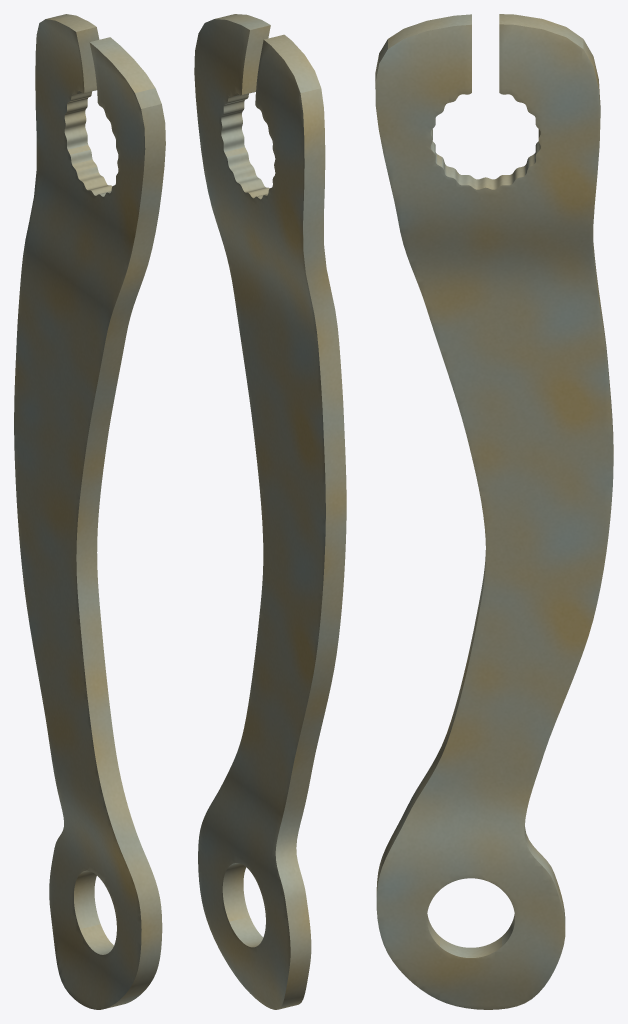
The model's file is front-cam-lever.glb.
3 views of the same model, side by side, from view 1: azimuth 30°, elevation 25°; view 2: azimuth 210°, elevation 25°; view 3: azimuth 270°, elevation 25° (orthographic). The views are drawn at different scales.
Visible parts, largest first — view 1: Front brake lever - editable candidate; view 2: Front brake lever - editable candidate; view 3: Front brake lever - editable candidate.
Boxes of the visible parts, x1,y1,x2,y2 form: Front brake lever - editable candidate: (14,14,165,1009); Front brake lever - editable candidate: (194,14,346,1009); Front brake lever - editable candidate: (375,14,613,1009).
Size of the model in its own units: 0.0043 by 0.1114 by 0.0243.
Materials: 1 (1 with a texture image).
